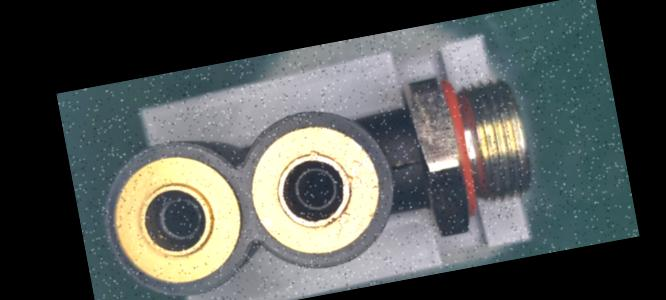craze: (389, 155, 425, 174)
